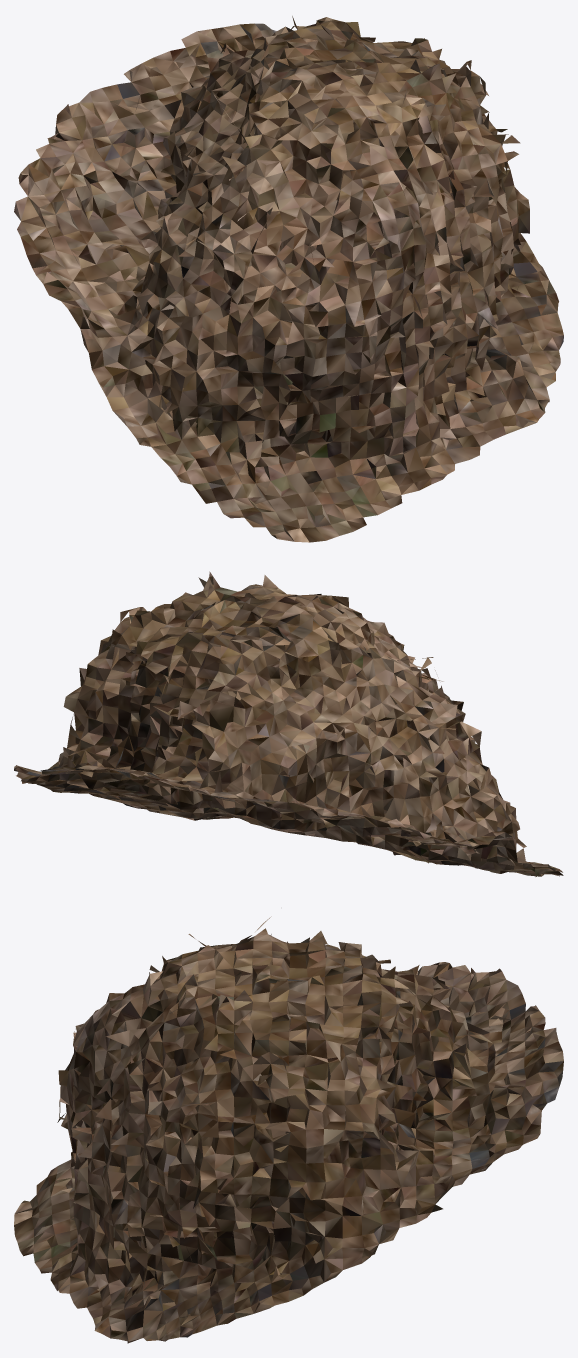
The model's file is garden-hay-roblox.obj.
3 views of the same model, one above another, from view 1: azimuth 30°, elevation 25°; view 2: azimuth 150°, elevation 25°; view 3: azimuth 270°, elevation 25° (orthographic). The views are drawn at different scales.
Size of the model in its own units: 0.9842 by 0.6928 by 0.987.
1 material, 1 textured.
